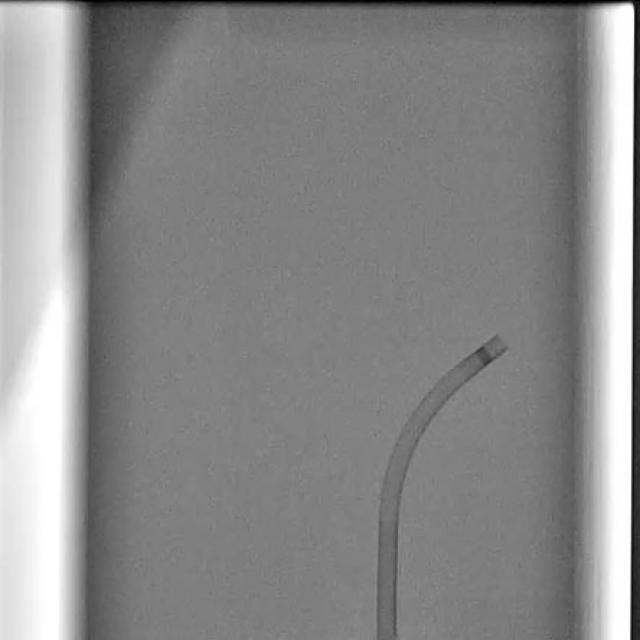bend: (379, 506, 400, 521)
entry: (378, 635, 396, 640)
marker: (474, 346, 493, 366)
tip: (495, 335, 511, 349)
